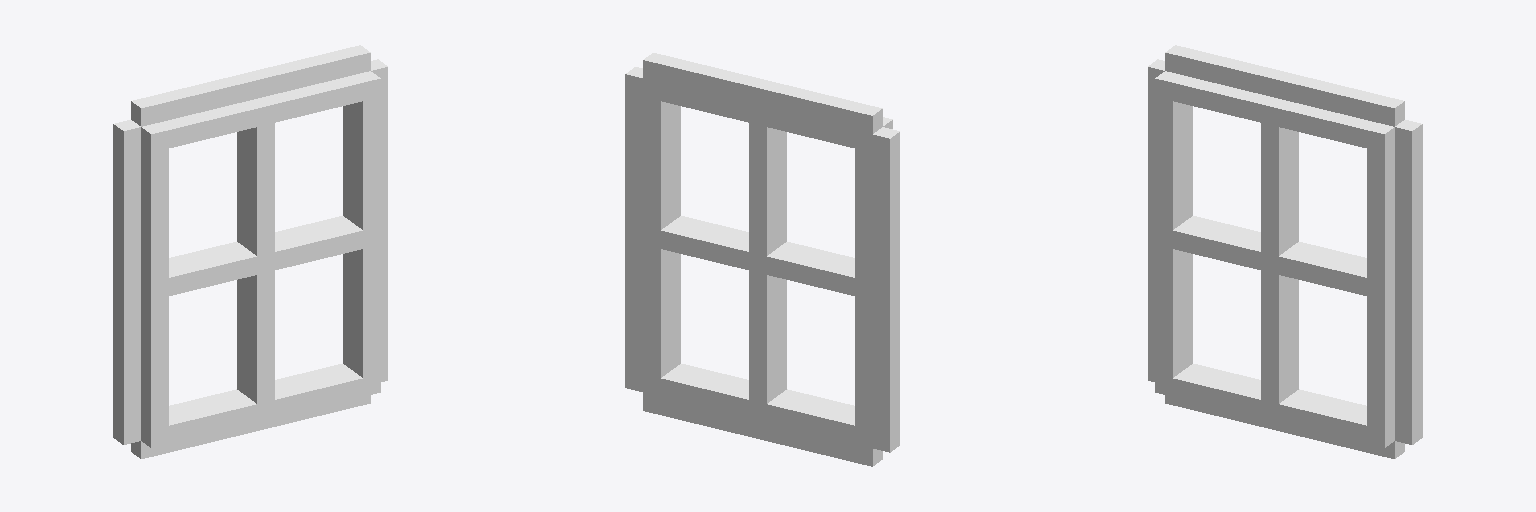
File: fenetre1.obj
3 renders of one model, left to right at view 1: azimuth 30°, elevation 25°; view 2: azimuth 150°, elevation 25°; view 3: azimuth 330°, elevation 25°, orthographic.
Visible parts, largest first — view 1: object 1; view 2: object 1; view 3: object 1.
Part boxes in pixels (x1,y1,x2,y2): object 1: (113, 45, 387, 458); object 1: (625, 53, 899, 466); object 1: (1148, 45, 1422, 458).
Bounding box in the file's own units: 1.5 × 1.9 × 0.2.